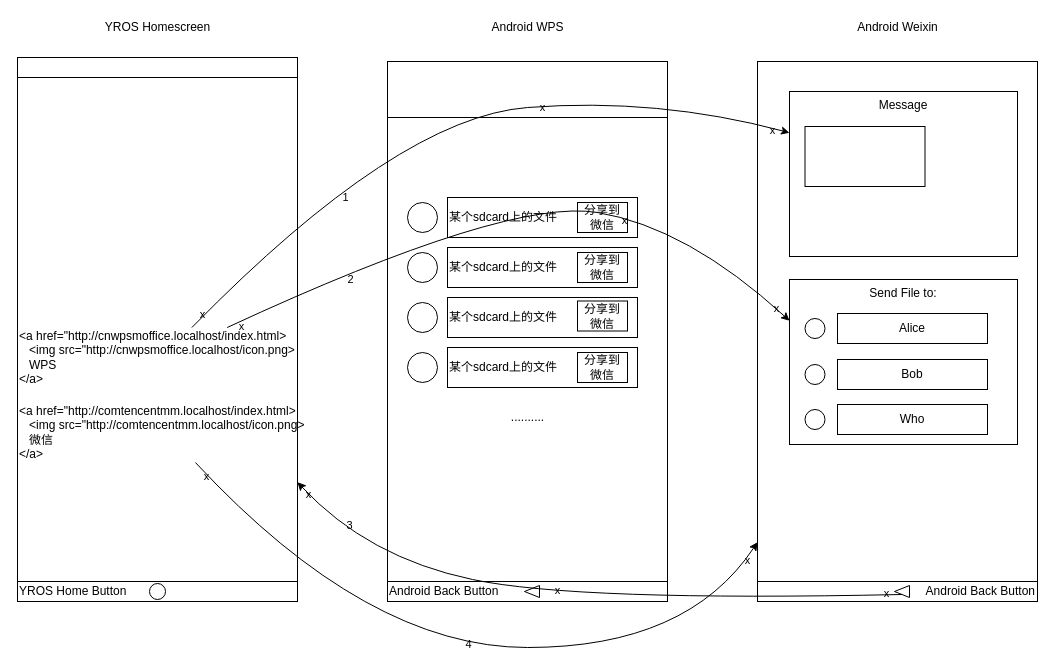
The diagram is 1055 pixels wide and 667 high, and some of its shapes have lost their labels. The centre of each missing label's shape, as x and y in pixels:
Who: Blah blah blah: [864,156]
YROS 状态栏: [157,67]
弹出式通知 of 微信： Who：blah blah blah: [527,89]
